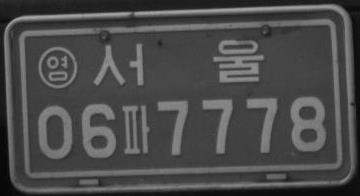0: (37, 104, 73, 160)
6: (81, 102, 116, 159)
7: (245, 96, 279, 154), (156, 98, 189, 156), (201, 97, 234, 154)
8: (289, 94, 327, 153)
서울_D: (92, 38, 264, 86)
영: (37, 46, 78, 90)
파: (121, 104, 150, 154)
